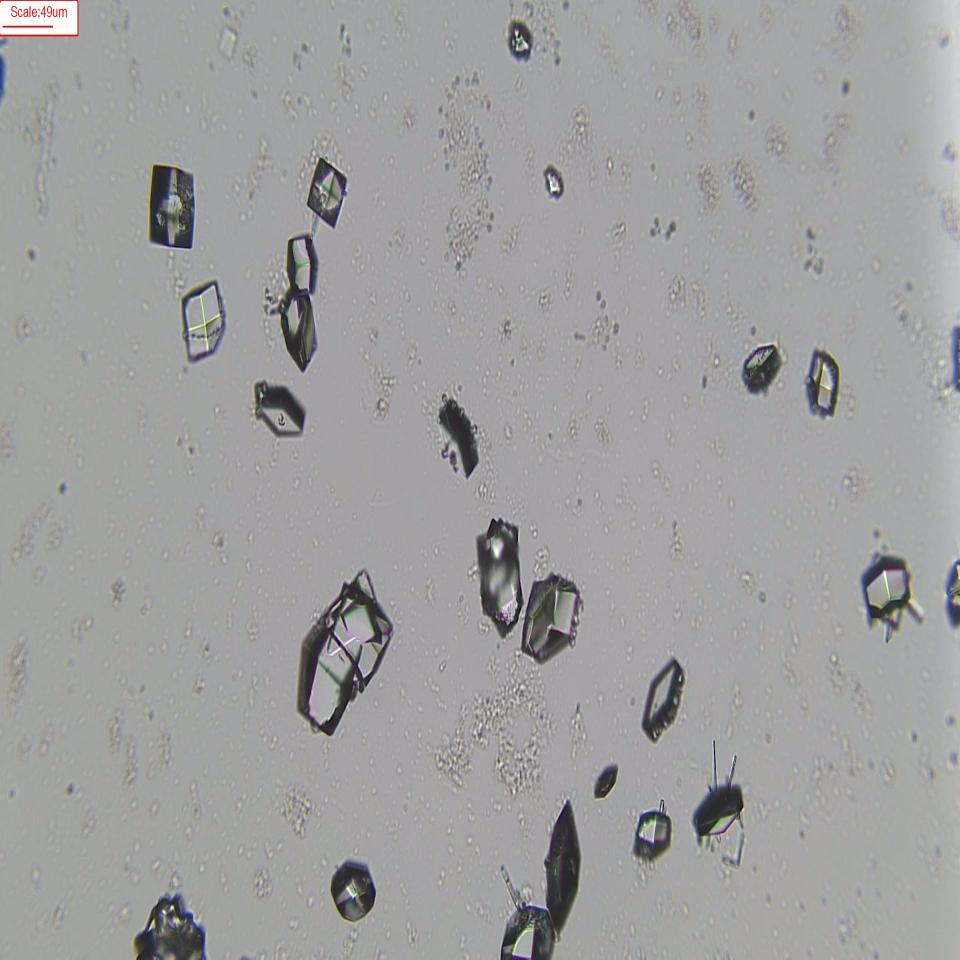crystal: (540, 798, 587, 934), (473, 523, 524, 629), (521, 567, 578, 658), (146, 165, 202, 254), (179, 279, 231, 370), (432, 397, 480, 489), (276, 286, 322, 374), (861, 554, 915, 622), (303, 155, 349, 234), (330, 862, 384, 924), (498, 901, 554, 960), (255, 384, 310, 440), (642, 658, 679, 740), (733, 338, 784, 397), (807, 340, 842, 418), (502, 13, 541, 68), (632, 814, 673, 860), (591, 753, 619, 816), (286, 235, 318, 290), (544, 155, 571, 205)
not_crystal: (300, 599, 395, 737)
